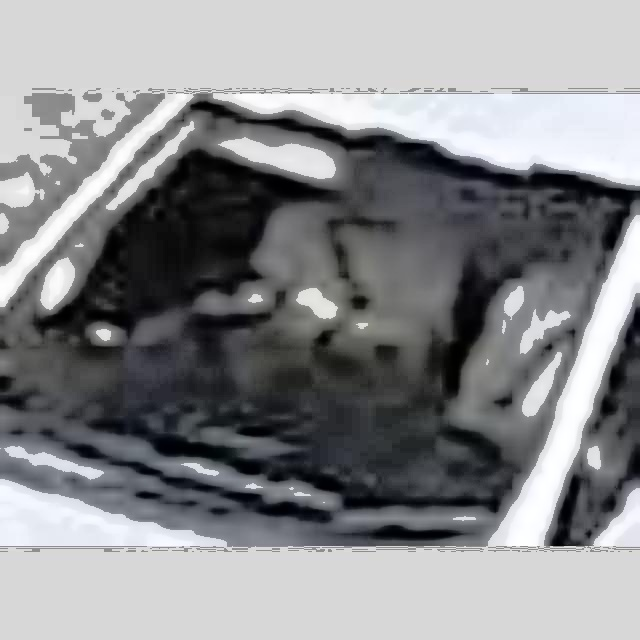pakai: (234, 195, 453, 367)
